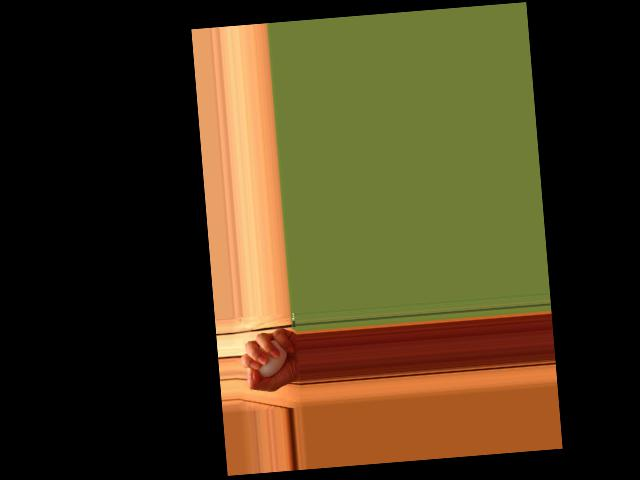egg: (252, 338, 289, 378)
